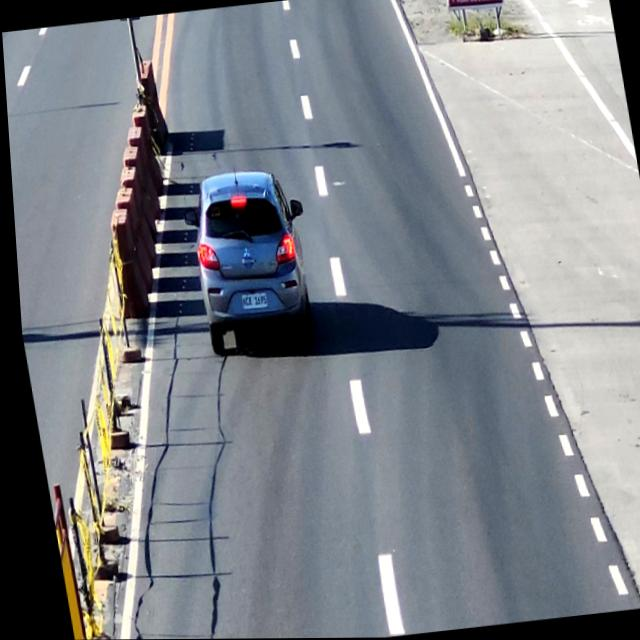Car: (178, 164, 317, 361)
License-Plate: (234, 287, 268, 318)
